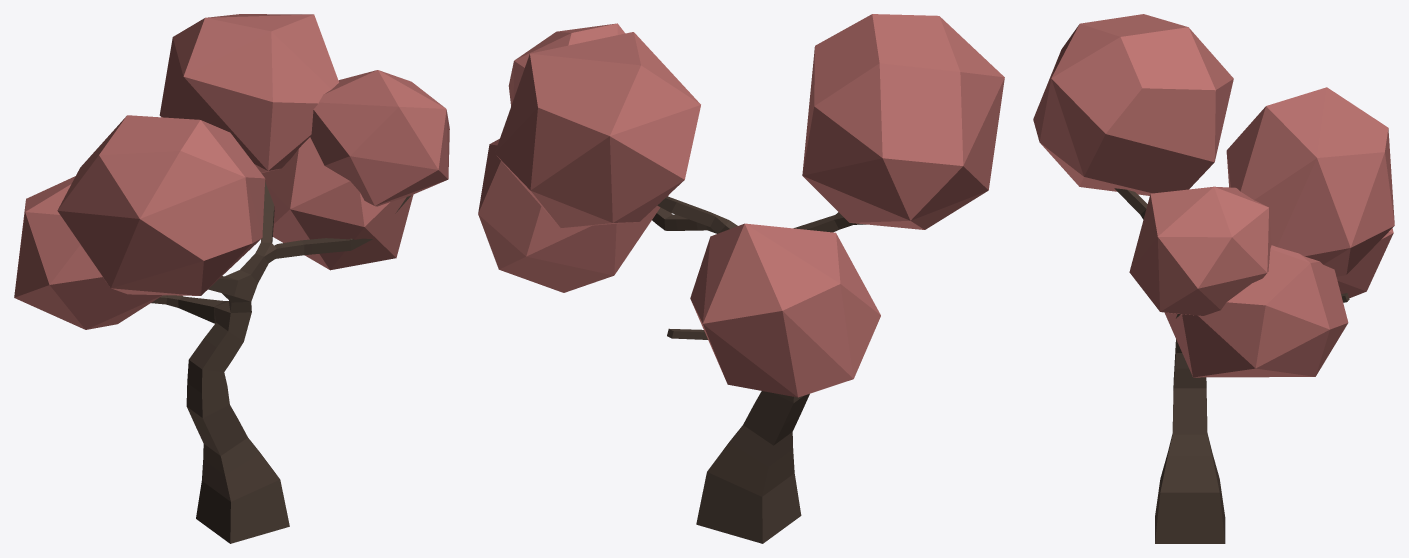
Rendered from redtree_1.fbx.
3 views of the same model, side by side, from view 1: azimuth 30°, elevation 25°; view 2: azimuth 150°, elevation 25°; view 3: azimuth 270°, elevation 25° (orthographic). The views are drawn at different scales.
Visible parts, largest first — view 1: redtree_1; view 2: redtree_1; view 3: redtree_1.
Part boxes in pixels (x1,y1,x2,y2): redtree_1: (14, 14, 449, 543); redtree_1: (478, 14, 1004, 543); redtree_1: (1033, 14, 1394, 543).
Bounding box in the file's own units: 1338 × 1440 × 1028.
